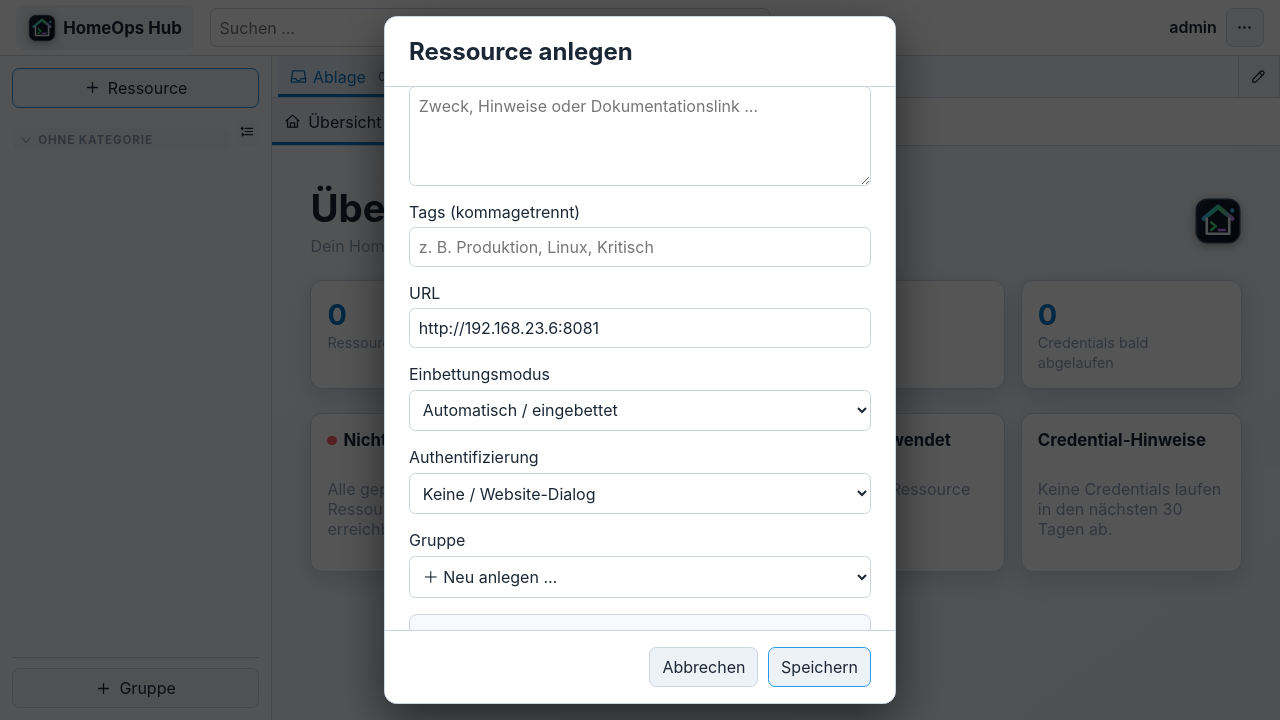
it: resource category creation › removes the new empty group if resource creation fails
Earlier steps of the test are not shown.
(page scrolled)
Click the button "Speichern": (820, 667) [768,647,871,687]
(page scrolled)
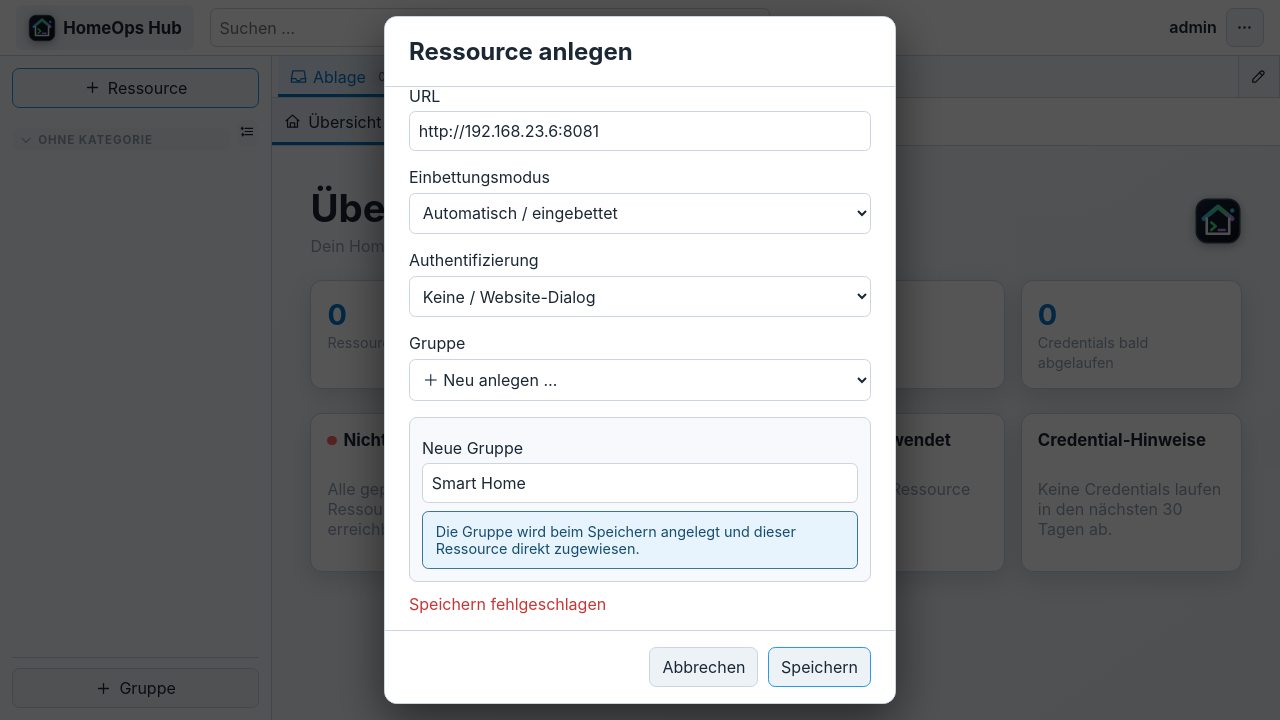
Check: the message reads "Speichern fehlgeschlagen", box [409,594,606,614]
